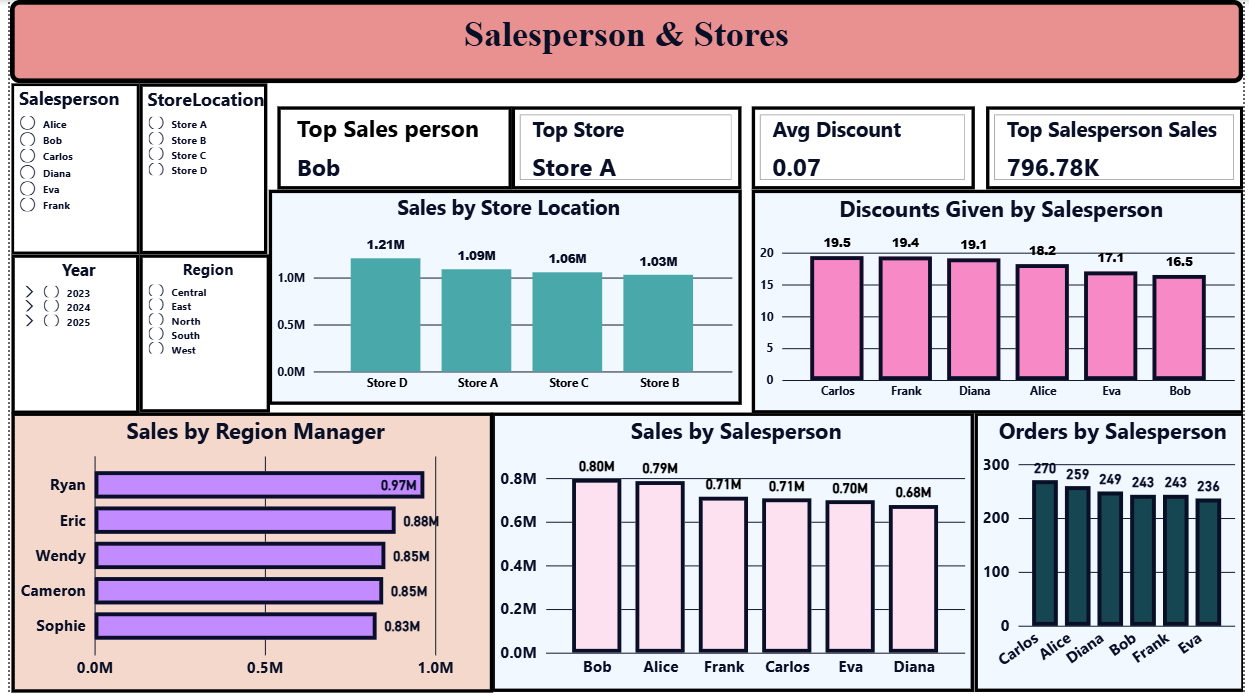

The page's visual inventory and layout, read from the dashboard file:
{"tool":"powerbi","page":{"name":"Salesperson & store performance","canvas":[1280,720],"ordinal":2},"visuals":[{"type":"textbox","box":[0,0,1280.6,86.6],"z":0},{"type":"cardVisual","fields":{"Data":["Sheet1.TopStore"]},"box":[520.9,110.4,238.8,86.6],"z":2000},{"type":"cardVisual","fields":{"Data":["Sheet1.AvgDiscount"]},"box":[770.2,110.4,231.3,86.6],"z":3000},{"type":"cardVisual","fields":{"Data":["Sheet1.Top Salesperson Sales"]},"box":[1013.5,110.4,267.2,86.6],"z":4000},{"type":"clusteredColumnChart","title":"Sales by Salesperson","fields":{"Category":["Sheet1.Salesperson"],"Y":["Sum(Sheet1.TotalPrice)"]},"box":[500,428.9,501.1,290],"z":5000},{"type":"clusteredColumnChart","title":"Orders by Salesperson","fields":{"Category":["Sheet1.Salesperson"],"Y":["CountNonNull(Sheet1.OrderID)"]},"box":[1001.1,428.9,280,290],"z":6000},{"type":"clusteredBarChart","title":"Sales by Region Manager","fields":{"Category":["Sheet1.RegionManager"],"Y":["Sum(Sheet1.TotalPrice)"]},"box":[1.1,428.9,500,291.1],"z":7000},{"type":"clusteredColumnChart","title":"Sales by Store Location","fields":{"Category":["Sheet1.StoreLocation"],"Y":["Sum(Sheet1.TotalPrice)"]},"box":[268.9,196.7,491.1,223.3],"z":8000},{"type":"clusteredColumnChart","title":"Discounts Given by Salesperson","fields":{"Category":["Sheet1.Salesperson"],"Y":["Sum(Sheet1.Discount)"]},"box":[770,196.7,511.1,232.2],"z":9000},{"type":"listSlicer","fields":{"Values":["Sheet1.Salesperson"]},"box":[1.5,86.6,132.8,177.6],"z":10000},{"type":"listSlicer","fields":{"Values":["Sheet1.Date.Variation.Date Hierarchy.Year","Sheet1.Date.Variation.Date Hierarchy.Quarter","Sheet1.Date.Variation.Date Hierarchy.Month","Sheet1.Date.Variation.Date Hierarchy.Day"]},"box":[1.5,264.2,132.8,165.7],"z":11000},{"type":"listSlicer","fields":{"Values":["Sheet1.Region"]},"box":[134.3,264.2,135.8,164.2],"z":12000},{"type":"listSlicer","fields":{"Values":["Sheet1.StoreLocation"]},"box":[134.3,86.6,132.8,177.6],"z":13000},{"type":"cardVisual","fields":{"Data":["Sheet1.Top Salesperson"]},"box":[277.6,110.4,243.3,86.6],"z":13001}]}

Visuals, with their boxes in screenshot pixels (x1, y1, x2, y2), scaled from the page's 1280x720 canvas onto the 1249x694 screenshot:
textbox: l=0, t=0, r=1248, b=83
cardVisual - Sheet1.TopStore: l=508, t=106, r=741, b=190
cardVisual - Sheet1.AvgDiscount: l=752, t=106, r=977, b=190
cardVisual - Sheet1.Top Salesperson Sales: l=989, t=106, r=1248, b=190
"Sales by Salesperson" clusteredColumnChart: l=488, t=413, r=977, b=693
"Orders by Salesperson" clusteredColumnChart: l=977, t=413, r=1248, b=693
"Sales by Region Manager" clusteredBarChart: l=1, t=413, r=489, b=693
"Sales by Store Location" clusteredColumnChart: l=262, t=190, r=742, b=405
"Discounts Given by Salesperson" clusteredColumnChart: l=751, t=190, r=1248, b=413
listSlicer - Sheet1.Salesperson: l=1, t=83, r=131, b=255
listSlicer - Sheet1.Date.Variation.Date Hierarchy.Year x Sheet1.Date.Variation.Date Hierarchy.Quarter: l=1, t=255, r=131, b=414
listSlicer - Sheet1.Region: l=131, t=255, r=264, b=413
listSlicer - Sheet1.StoreLocation: l=131, t=83, r=261, b=255
cardVisual - Sheet1.Top Salesperson: l=271, t=106, r=508, b=190
